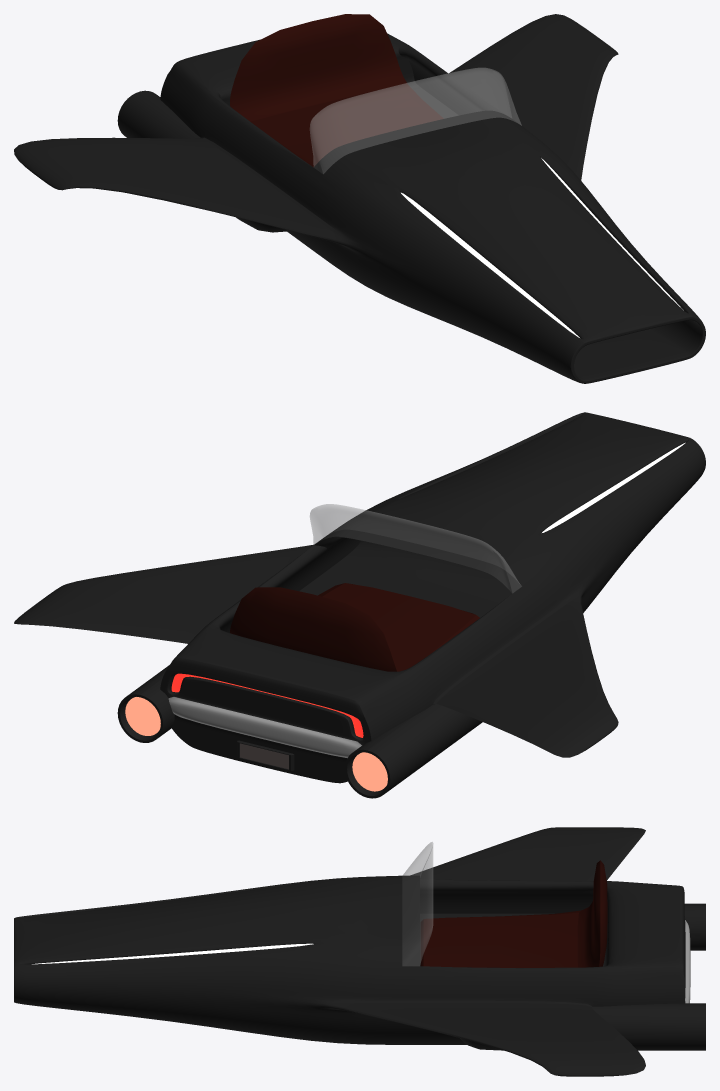
3 renders of one model, top to bottom at view 1: azimuth 30°, elevation 25°; view 2: azimuth 150°, elevation 25°; view 3: azimuth 270°, elevation 25°, orthographic. The views are drawn at different scales.
Parts seen in each view (by area): view 1: Airspeeder; view 2: Airspeeder; view 3: Airspeeder.
Part boxes in pixels (x1=…): Airspeeder: x1=14, y1=14, x2=705, y2=383; Airspeeder: x1=14, y1=412, x2=705, y2=798; Airspeeder: x1=14, y1=827, x2=705, y2=1076.
Bounding box in the file's own units: 3.64 × 0.9649 × 4.31.
